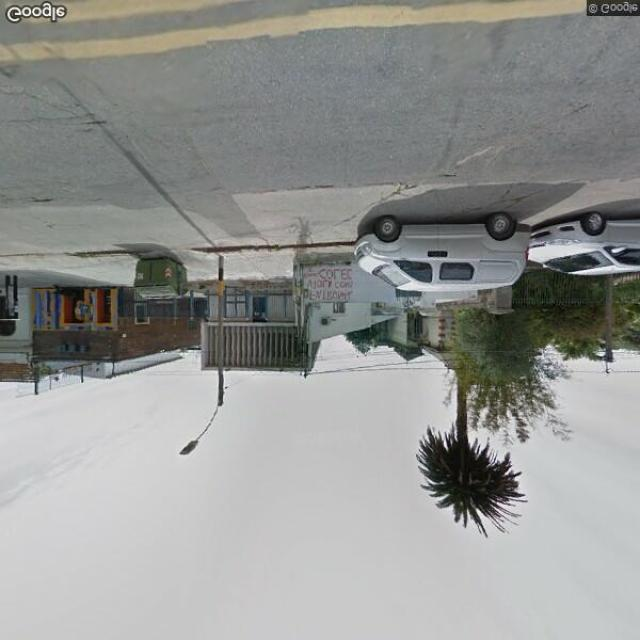garbage container: (126, 252, 202, 310)
